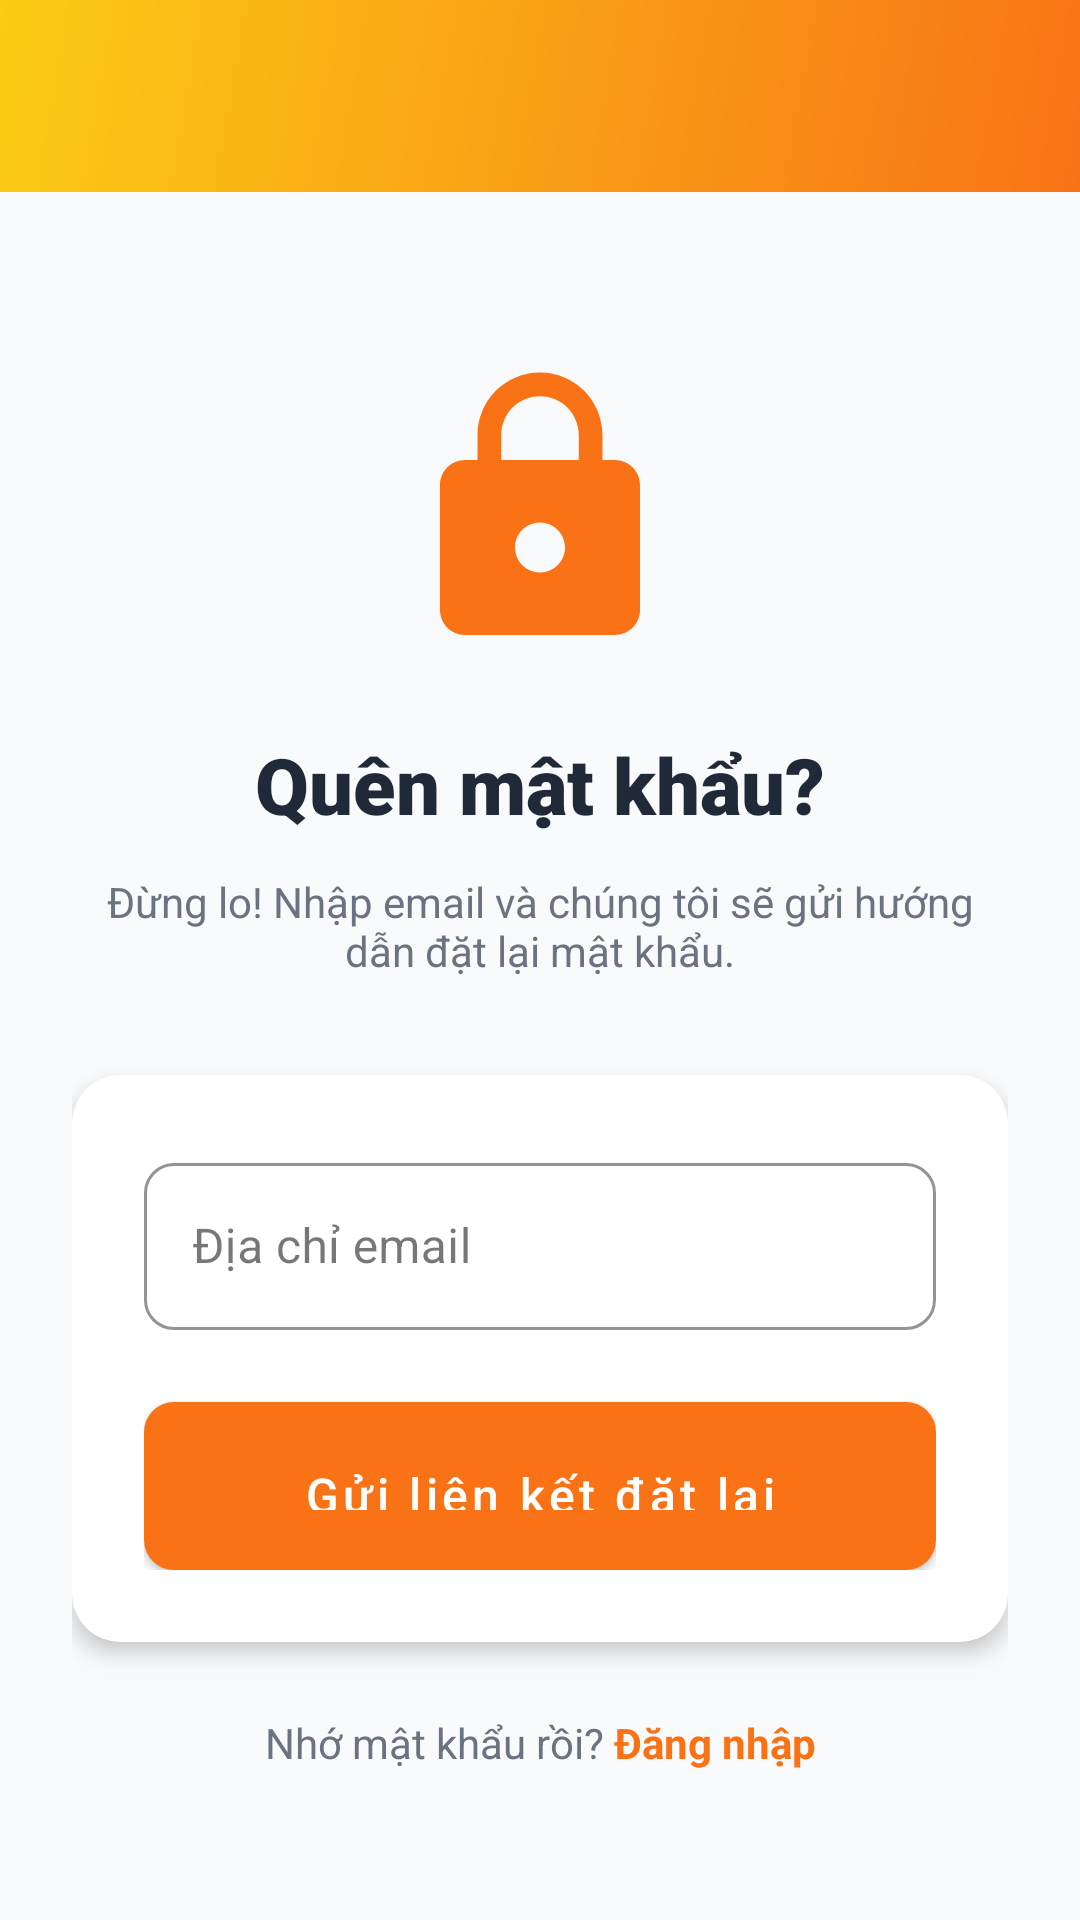

Screen size 1080 × 1920. Icon name, then its center in pixels as point (x, y):
lock: point (540, 503)
